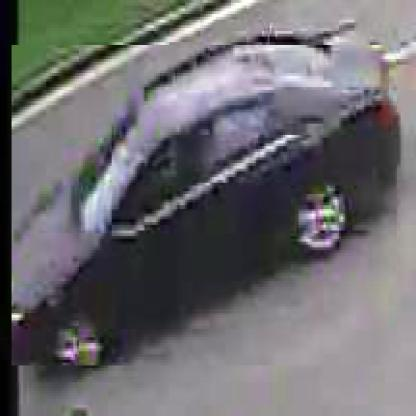car: (11, 46, 398, 369)
